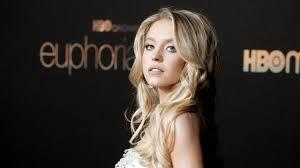Persons: (126, 5, 213, 109)
